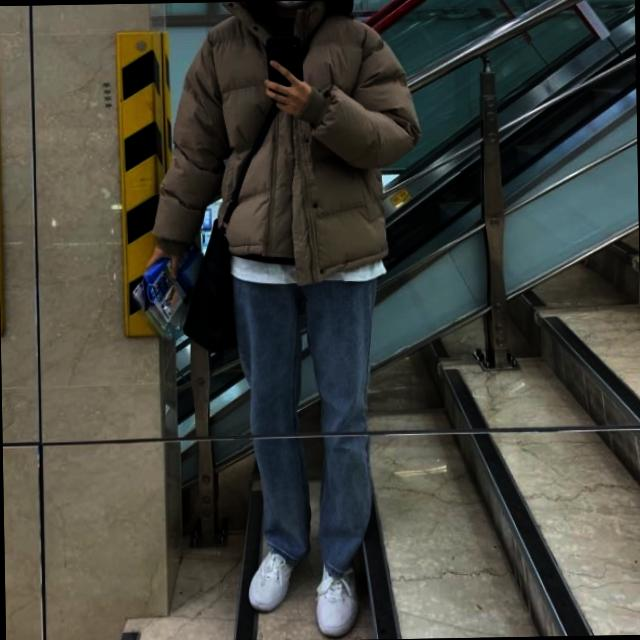denimpants: (230, 253, 380, 580)
padding: (148, 0, 421, 291)
